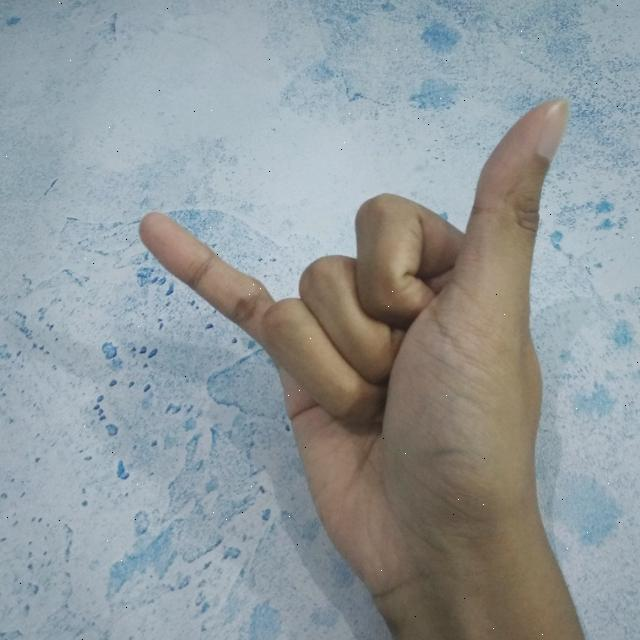Y: (125, 89, 580, 640)
